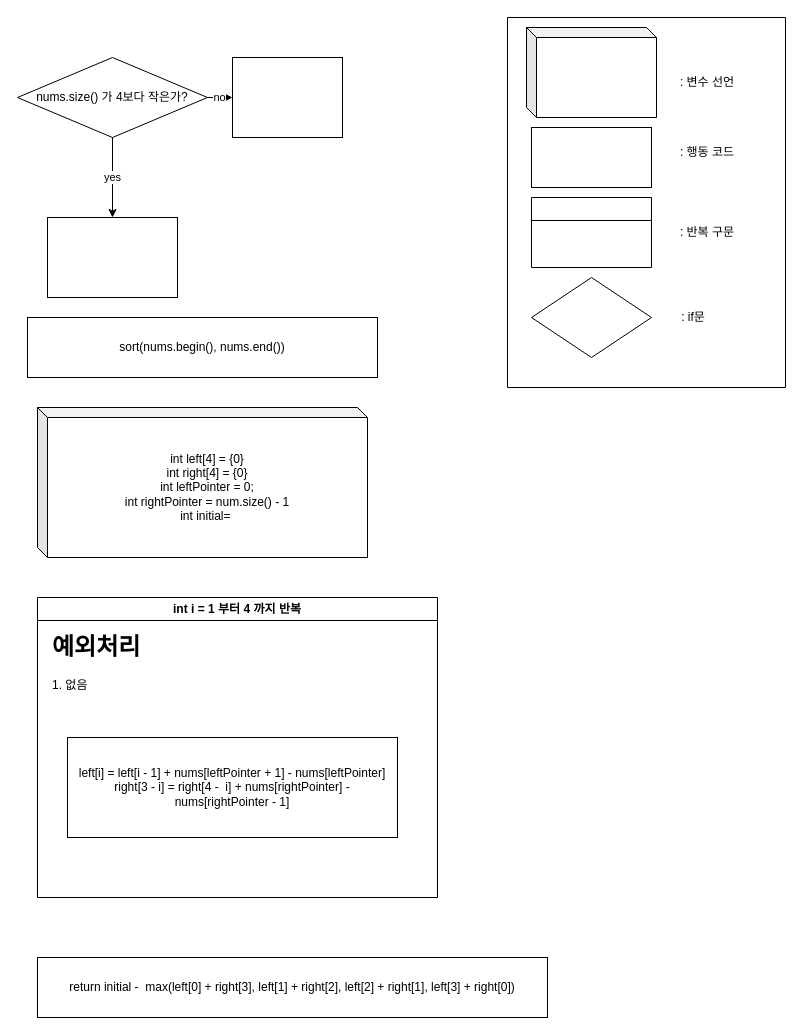
Image size: 803x1035. Some labels were removed from this diagram. Each missing label, with the centre of its shape:
0 리턴: point (112, 257)
pass: point (287, 97)
~ 동안: point (591, 232)
